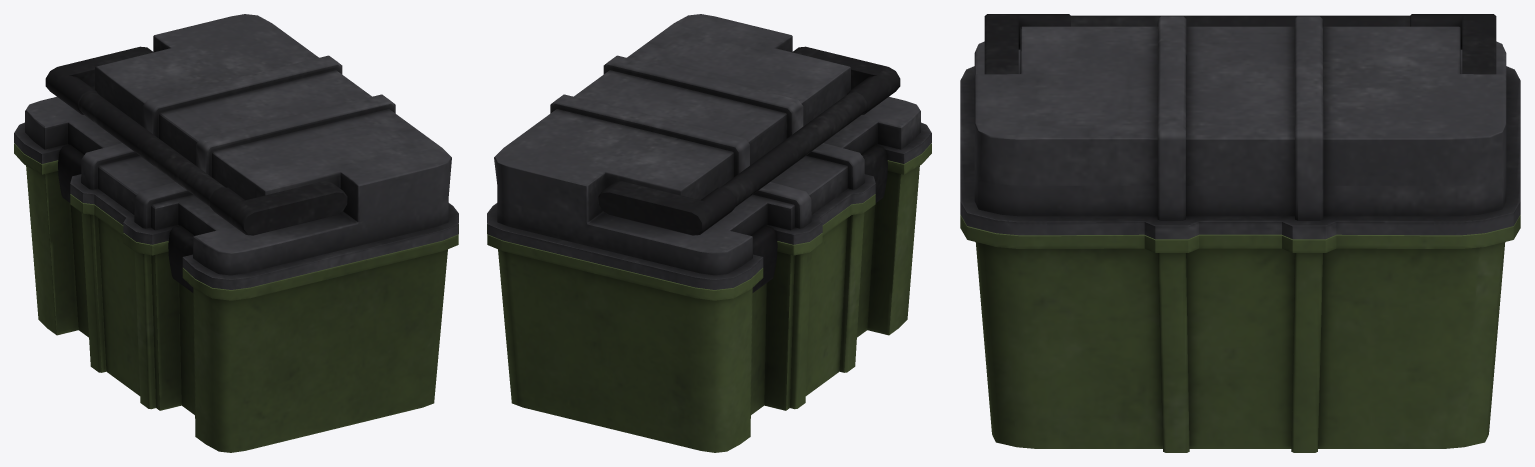
The model's file is Plastic Container 1.fbx.
The picture shows the model from 3 angles, left to right: view 1: azimuth 30°, elevation 25°; view 2: azimuth 150°, elevation 25°; view 3: azimuth 270°, elevation 25°; orthographic projection. The views are drawn at different scales.
Visible parts, largest first — view 1: plastic_container_1_Top_Base, plastic_container_1_Base, plastic_container_1_Top_Handle, plastic_container_1_Top; view 2: plastic_container_1_Top_Base, plastic_container_1_Base, plastic_container_1_Top_Handle, plastic_container_1_Top; view 3: plastic_container_1_Top_Base, plastic_container_1_Base, plastic_container_1_Top_Handle.
Part boxes in pixels (box(x1,y1,x2,y2)): plastic_container_1_Top_Base: box(14, 14, 458, 289); plastic_container_1_Base: box(14, 143, 458, 452); plastic_container_1_Top_Handle: box(45, 46, 347, 235); plastic_container_1_Top: box(58, 144, 194, 292); plastic_container_1_Top_Base: box(487, 14, 931, 289); plastic_container_1_Base: box(487, 143, 931, 452); plastic_container_1_Top_Handle: box(598, 46, 900, 235); plastic_container_1_Top: box(751, 144, 887, 292); plastic_container_1_Top_Base: box(960, 16, 1520, 239); plastic_container_1_Base: box(960, 215, 1520, 452); plastic_container_1_Top_Handle: box(984, 14, 1496, 74).
Bounding box in the file's own units: 42 × 37.31 × 58.24.
1 material, 1 textured.
